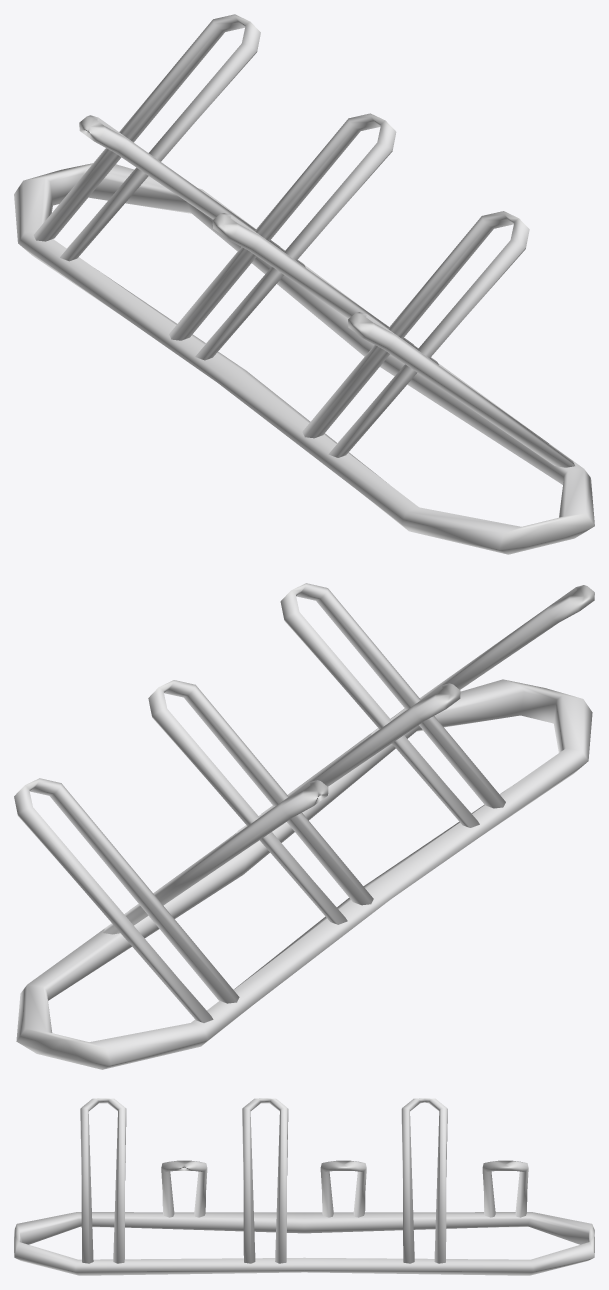
Rendered from BikeRacks.glb.
3 views of the same model, one above another, from view 1: azimuth 30°, elevation 25°; view 2: azimuth 150°, elevation 25°; view 3: azimuth 270°, elevation 25° (orthographic). The views are drawn at different scales.
Visible parts, largest first — view 1: BikeRacks; view 2: BikeRacks; view 3: BikeRacks.
Part boxes in pixels (x1,y1,x2,y2): BikeRacks: [14, 14, 594, 554]; BikeRacks: [14, 583, 594, 1069]; BikeRacks: [14, 1098, 594, 1275].
Size of the model in its own units: 0.7556 by 0.6258 by 2.72.
Materials: 1 (1 with a texture image).
